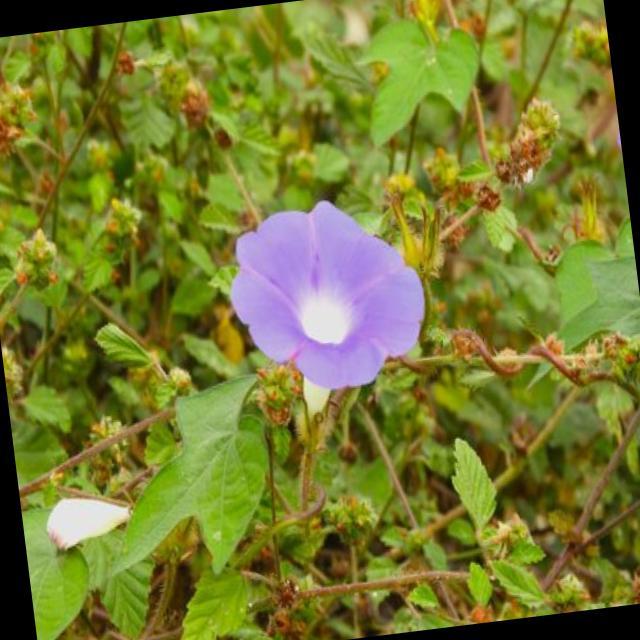ipomoea: (215, 186, 438, 408)
